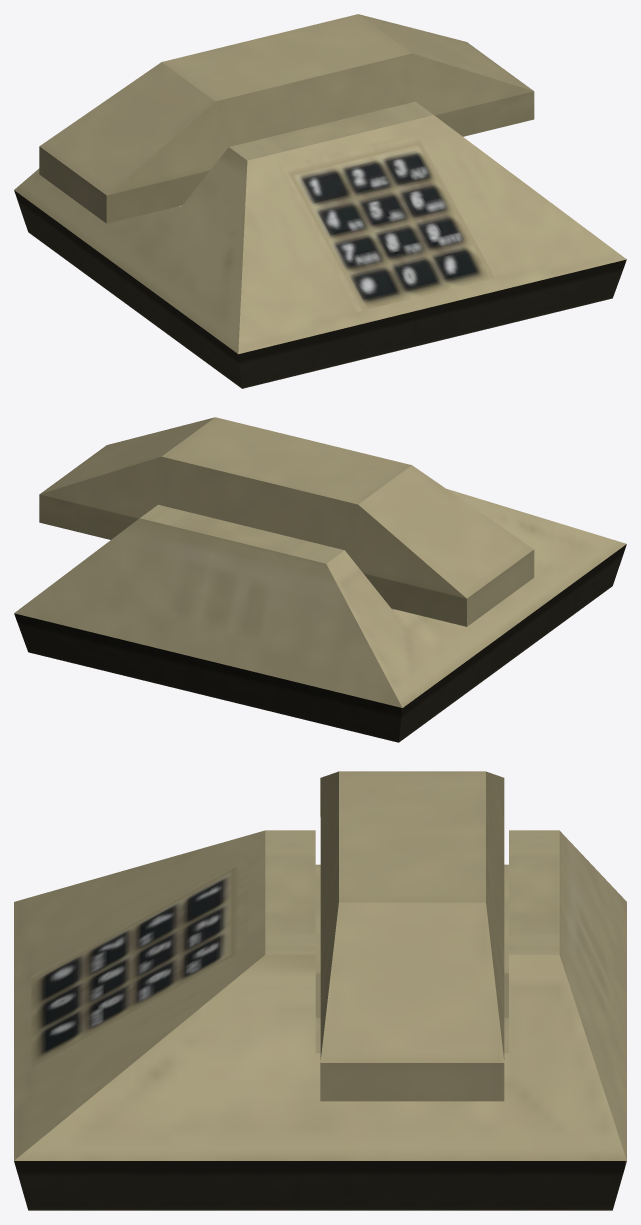
File: [PSX] Landline Phone.fbx
3 renders of one model, top to bottom at view 1: azimuth 30°, elevation 25°; view 2: azimuth 150°, elevation 25°; view 3: azimuth 270°, elevation 25°, orthographic. The views are drawn at different scales.
Parts seen in each view (by area): view 1: Land Line, Phone; view 2: Land Line, Phone; view 3: Land Line, Phone.
Boxes of the visible parts, bbox=[...] form: Land Line: bbox=[14, 101, 626, 388]; Phone: bbox=[39, 14, 534, 223]; Land Line: bbox=[14, 489, 626, 742]; Phone: bbox=[39, 417, 534, 626]; Land Line: bbox=[14, 830, 626, 1210]; Phone: bbox=[320, 771, 504, 1101].
Bounding box in the file's own units: 22 × 9 × 20.
Materials: 1 (1 with a texture image).
